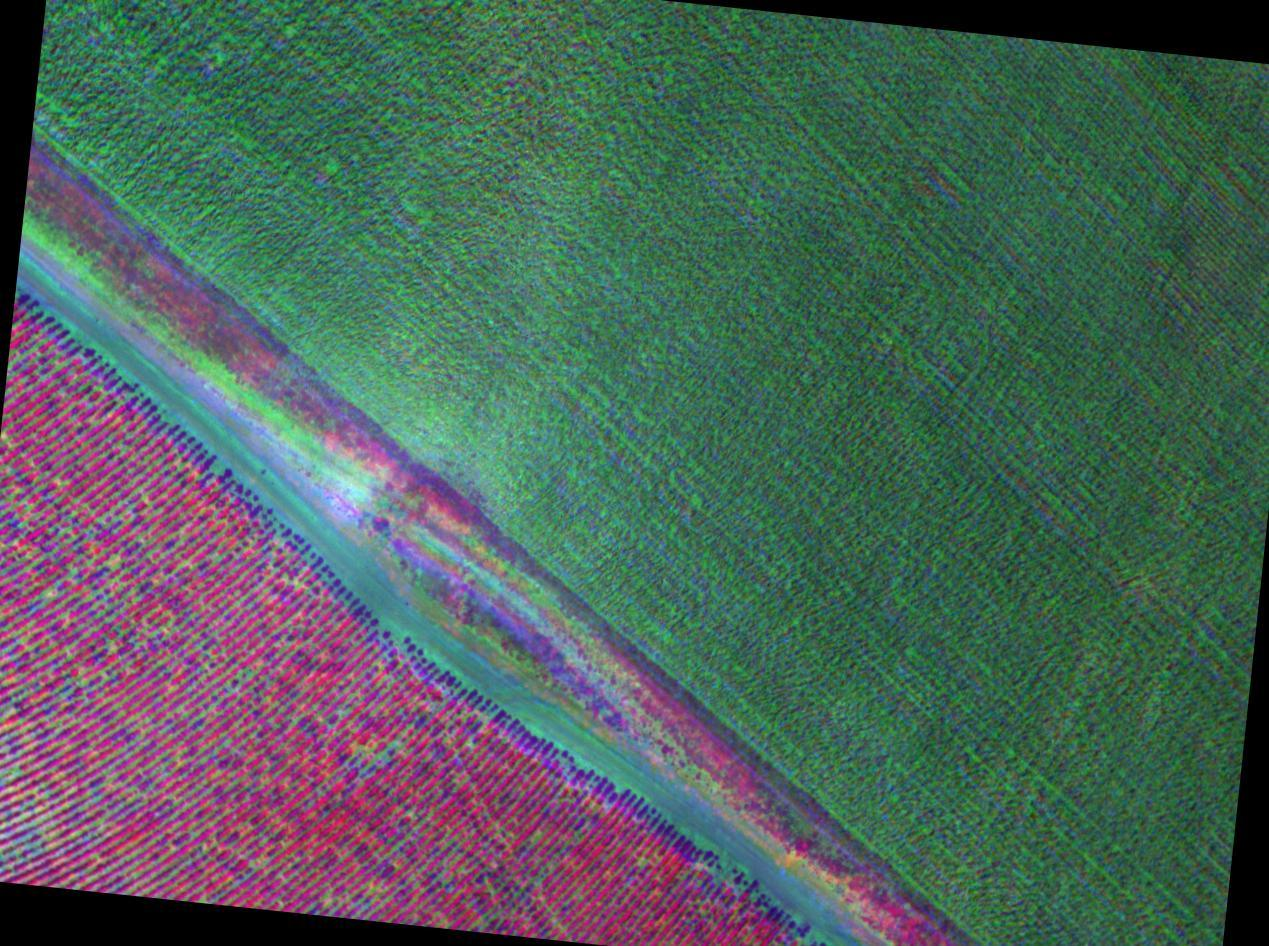dc: (0, 751, 50, 866), (94, 501, 163, 580), (0, 474, 52, 548), (338, 719, 400, 781), (197, 642, 262, 699), (3, 355, 61, 408)
